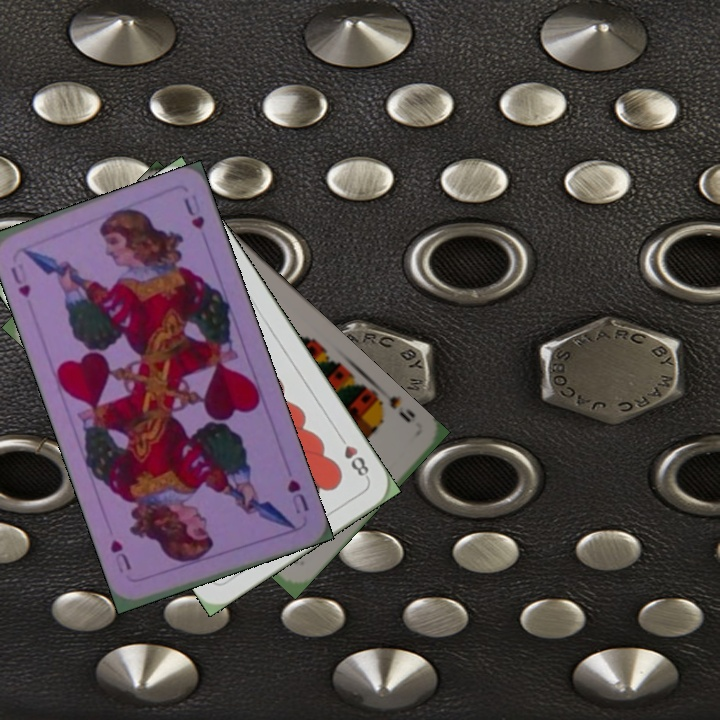H8: (333, 430, 372, 482)
HU: (283, 475, 311, 517), (6, 263, 34, 300)
S9: (369, 388, 418, 426)
